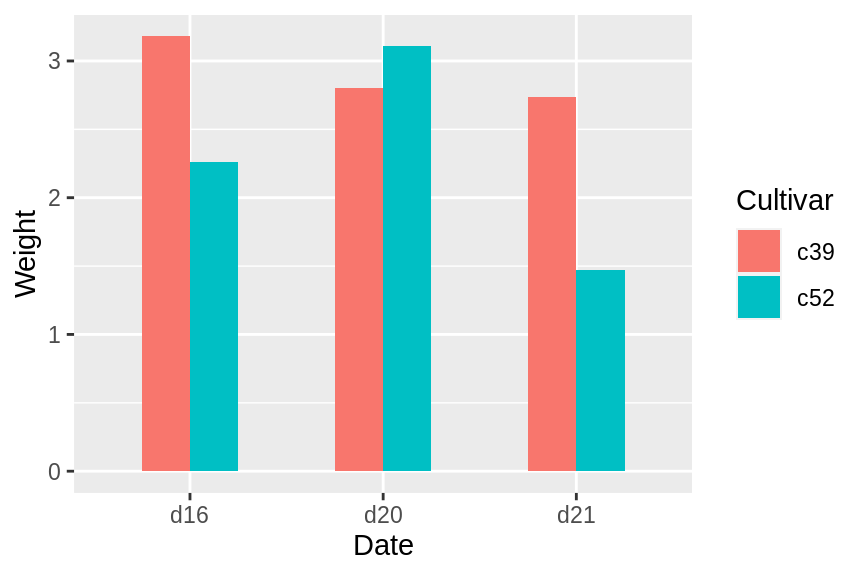canvas: (104, 23, 660, 480)
legend: (732, 226, 837, 321)
x-labels: (164, 502, 632, 527)
x-title: (344, 531, 427, 560)
y-labels: (42, 47, 64, 481)
y-title: (8, 209, 46, 303)
